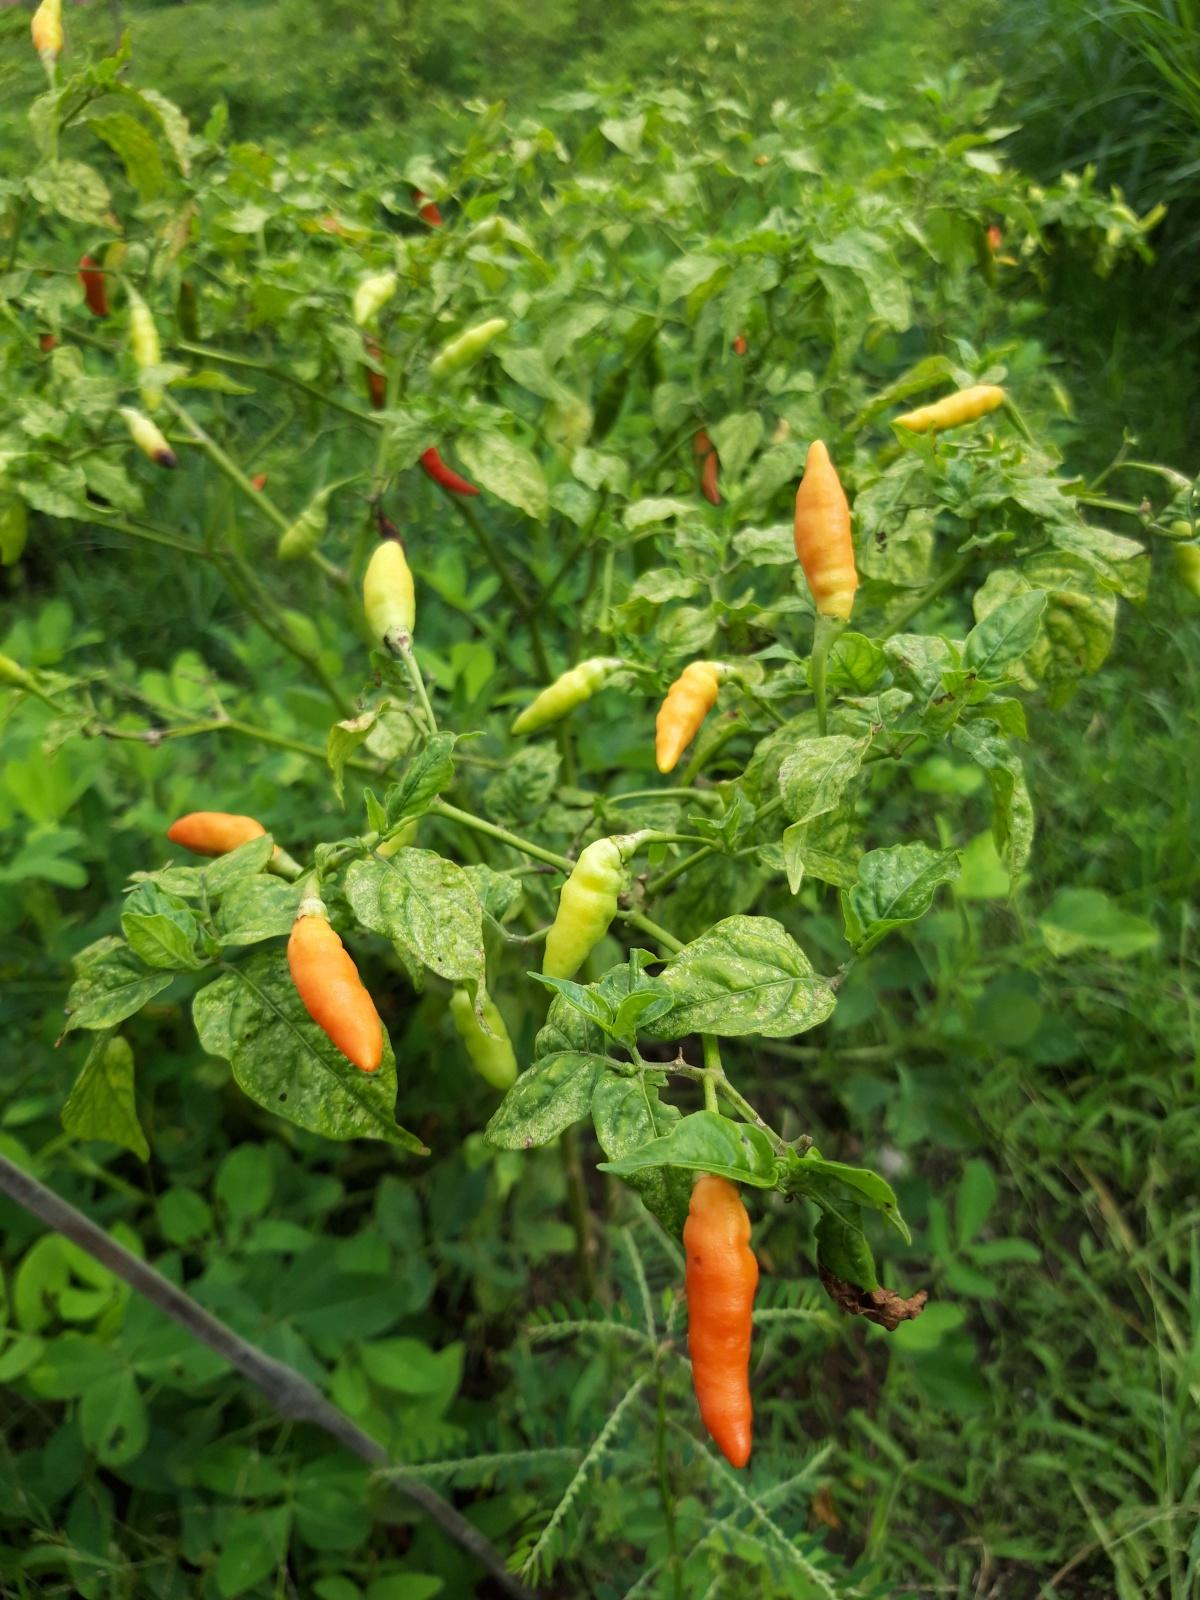cabai_normal: (684, 1173, 756, 1474), (287, 921, 382, 1077), (542, 837, 620, 981), (794, 438, 856, 620), (511, 655, 624, 736), (654, 663, 735, 774), (447, 989, 519, 1090), (168, 811, 281, 866), (362, 540, 416, 648), (890, 386, 1006, 433), (427, 320, 505, 382), (277, 493, 329, 564), (130, 305, 160, 413), (422, 446, 479, 499), (76, 249, 111, 323), (353, 272, 398, 328), (29, 3, 66, 58)
lalat_buah: (117, 404, 179, 470)
